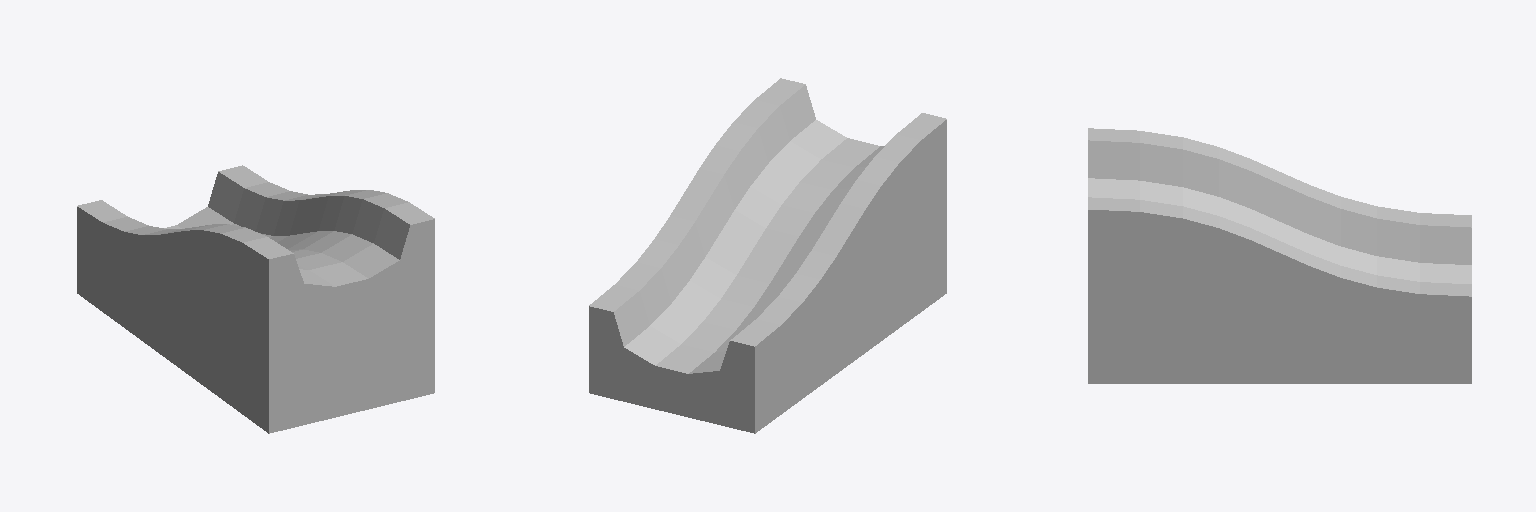
The model's file is ramp-long-solid-b.obj.
The picture shows the model from 3 angles: view 1: azimuth 30°, elevation 25°; view 2: azimuth 150°, elevation 25°; view 3: azimuth 270°, elevation 25°; orthographic projection.
Parts seen in each view (by area): view 1: ramp-long-solid-b; view 2: ramp-long-solid-b; view 3: ramp-long-solid-b.
Boxes of the visible parts, x1,y1,x2,y2 form: ramp-long-solid-b: [77, 165, 434, 433]; ramp-long-solid-b: [589, 78, 946, 433]; ramp-long-solid-b: [1088, 128, 1471, 383].
Bounding box in the file's own units: 1 × 1 × 2.